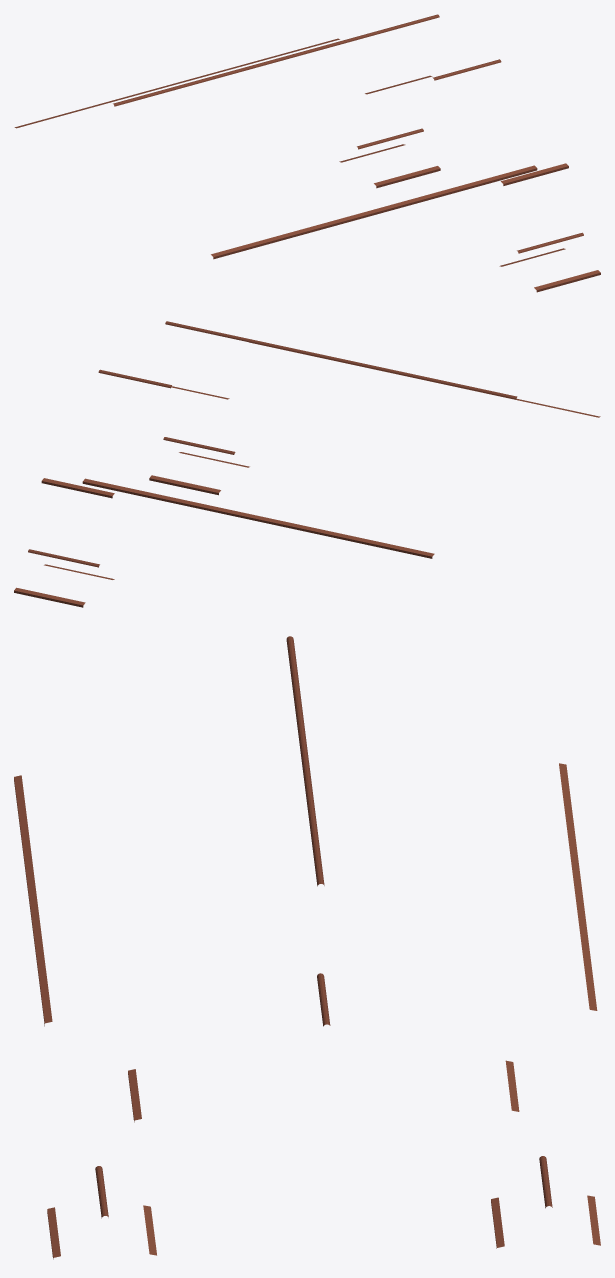
3 renders of one model, top to bottom at view 1: azimuth 30°, elevation 25°; view 2: azimuth 150°, elevation 25°; view 3: azimuth 270°, elevation 25°, orthographic. The views are drawn at different scales.
Parts seen in each view (by area): view 1: detail; view 2: detail; view 3: detail.
Part boxes in pixels (<box>): detail: <box>14,14,600,292</box>; detail: <box>14,321,600,607</box>; detail: <box>14,636,600,1259</box>.
Bounding box in the file's own units: 30.23 × 14.9 × 24.36.
